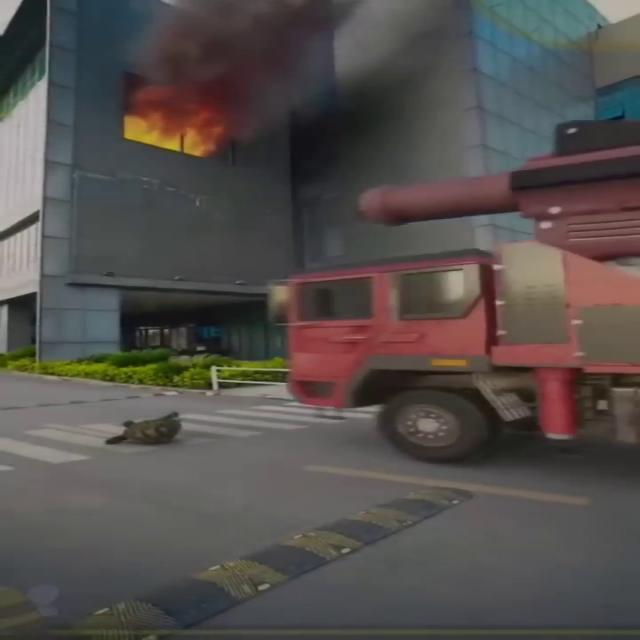Fire: (116, 102, 226, 156)
Smoke: (131, 0, 534, 154)
